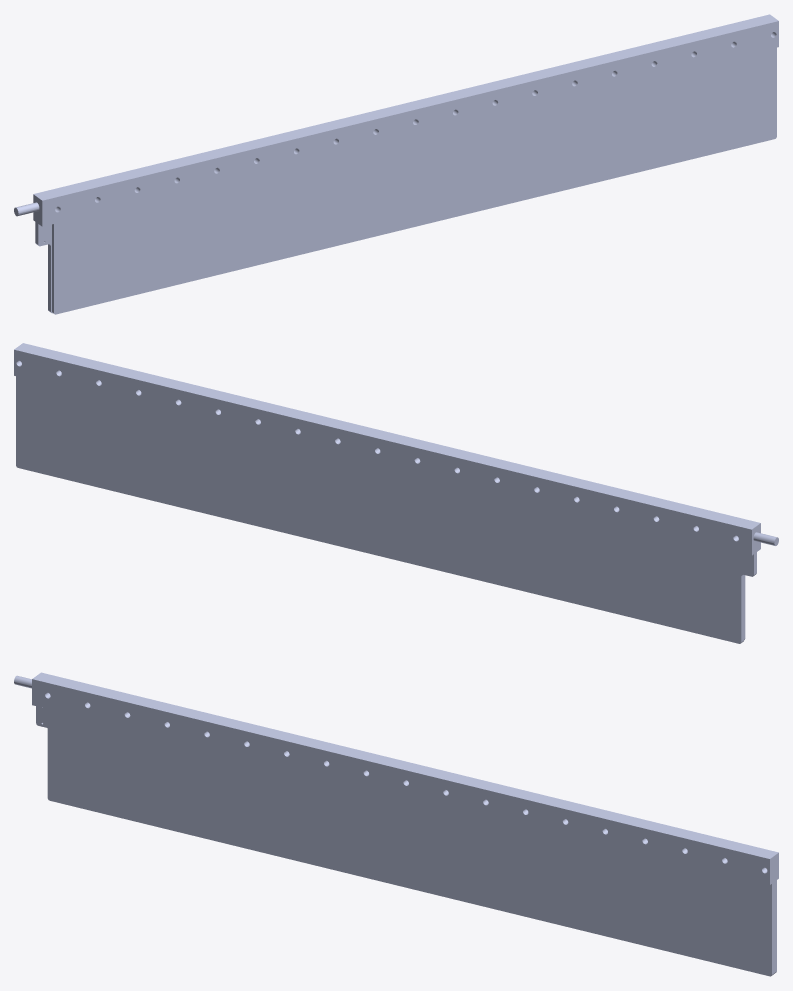
The model's file is MUD-18.glb.
3 renders of one model, top to bottom at view 1: azimuth 30°, elevation 25°; view 2: azimuth 150°, elevation 25°; view 3: azimuth 330°, elevation 25°, orthographic.
Parts seen in each view (by area): view 1: MUC-18_node; view 2: MUC-18_node; view 3: MUC-18_node.
Part boxes in pixels (box(x1,y1,x2,y2)): MUC-18_node: box(14, 14, 778, 314); MUC-18_node: box(14, 343, 778, 643); MUC-18_node: box(14, 672, 778, 976).
Bounding box in the file's own units: 724 × 109 × 15.
